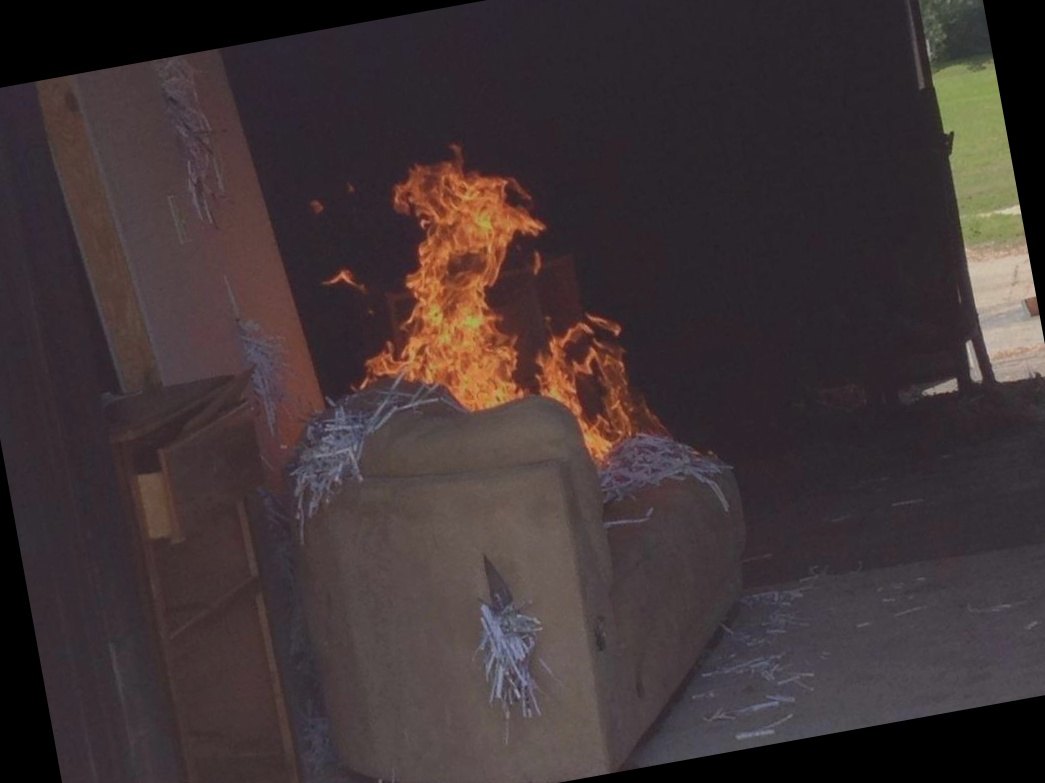fire: (330, 125, 643, 472)
